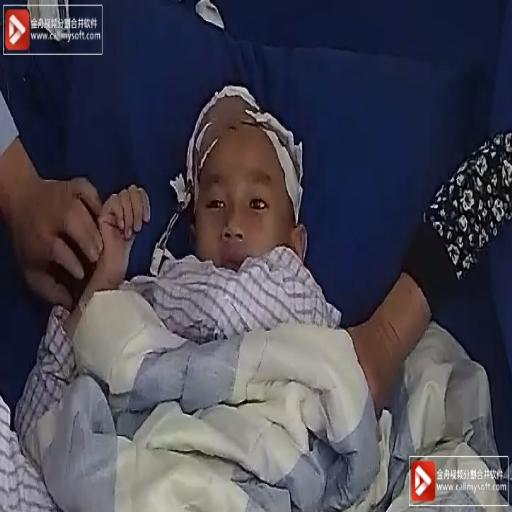Seizure: (170, 93, 284, 269)
